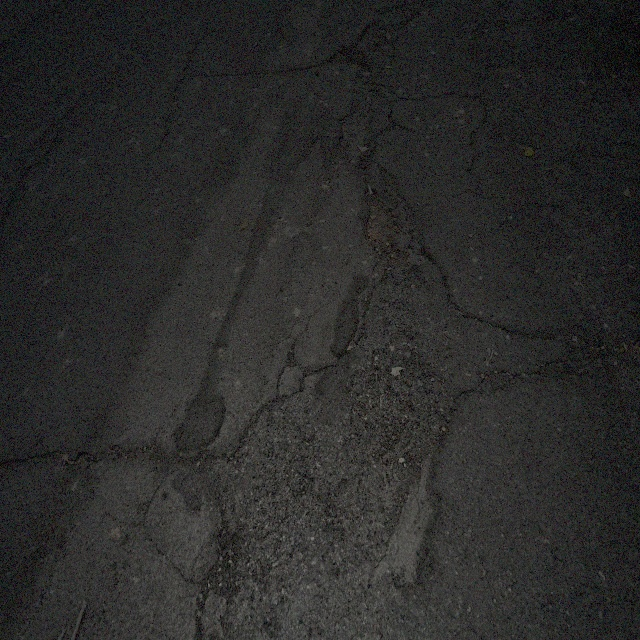pothole: (360, 185, 400, 272), (323, 42, 373, 70)
